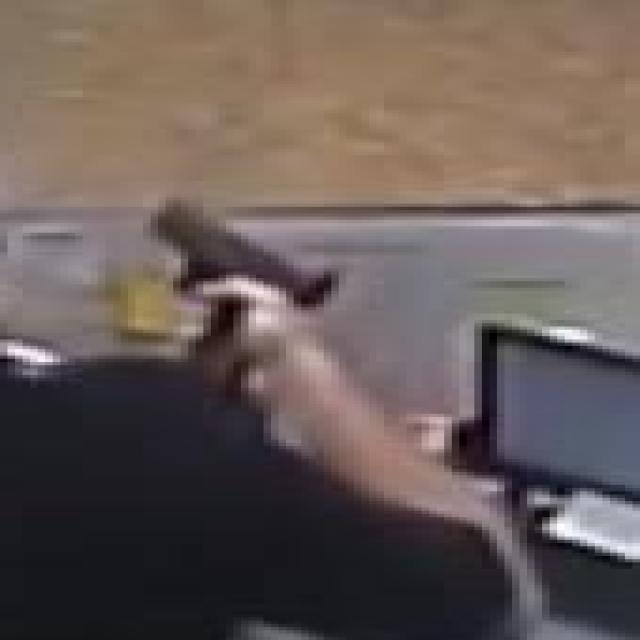Guns: (107, 177, 404, 384)
